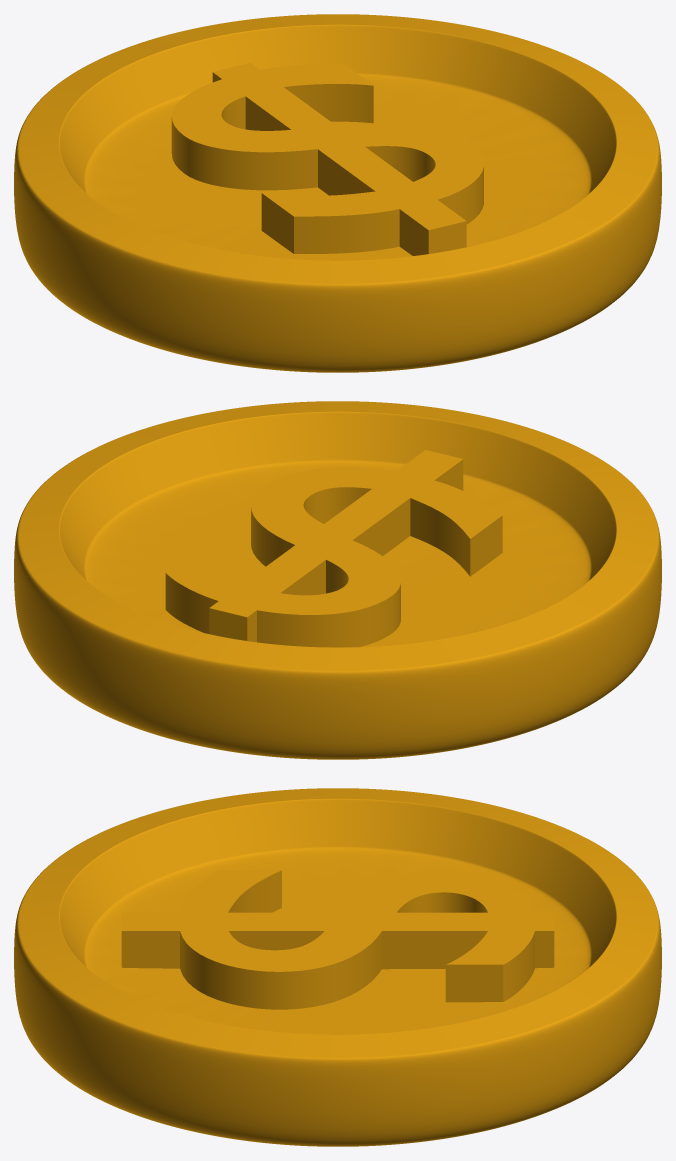
Rendered from Coin.fbx.
The picture shows the model from 3 angles, top to bottom: view 1: azimuth 30°, elevation 25°; view 2: azimuth 150°, elevation 25°; view 3: azimuth 270°, elevation 25°; orthographic projection.
Parts seen in each view (by area): view 1: Text; view 2: Text; view 3: Text.
Part boxes in pixels (box(x1,y1,x2,y2)): Text: box(14, 14, 661, 372); Text: box(14, 401, 661, 759); Text: box(14, 788, 661, 1146).
Bounding box in the file's own units: 198 × 35.49 × 198.
